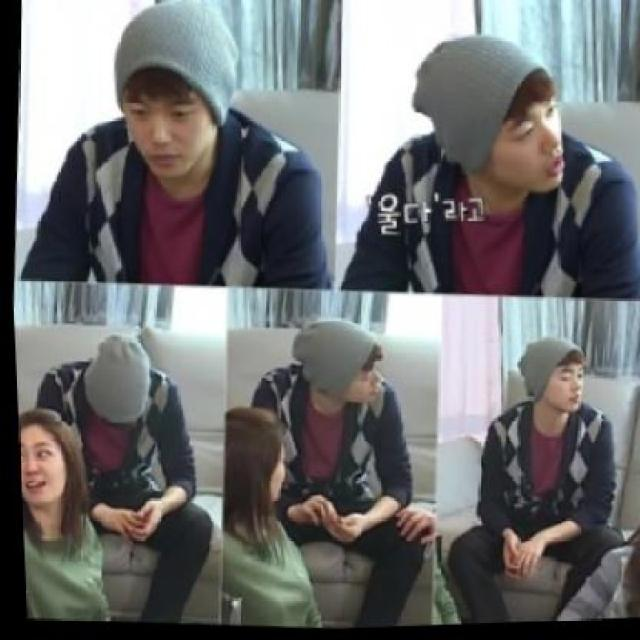hat: (398, 27, 565, 191), (101, 0, 254, 137), (280, 311, 385, 414), (71, 322, 157, 433), (503, 328, 592, 414)
